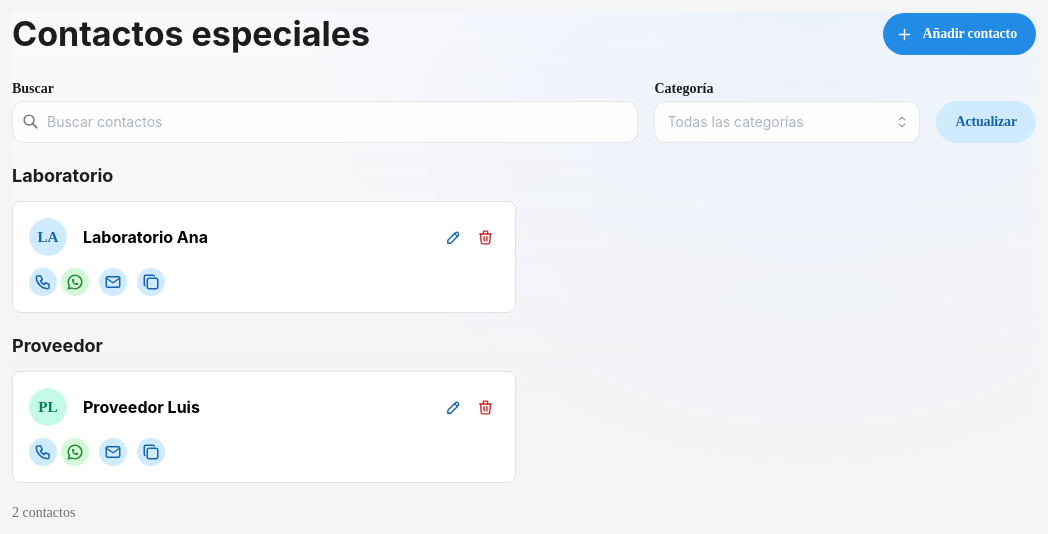
Test: search filters cards and offers add contact in the empty state
Type "Luis" into the field with placeholder "Buscar contactos" at (325, 122), box [12,101,638,143]
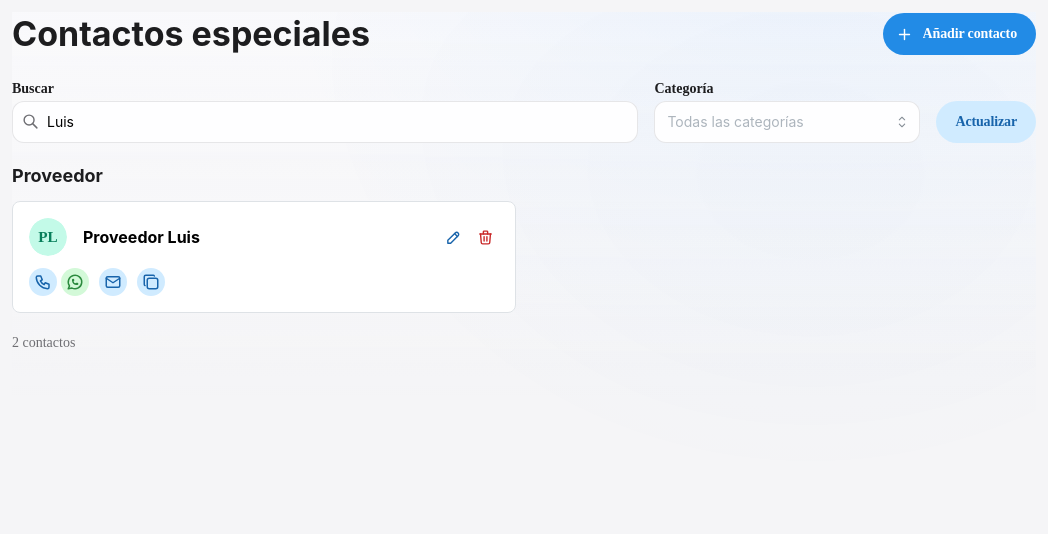
Expected: the heading "Proveedor Luis" is shown, [83,225,200,249]
Expected: the heading "Laboratorio Ana" is gone
Replace the text in the field with placeholder "Buscar contactos" with "Sin resultados" at (325, 122), box [12,101,638,143]
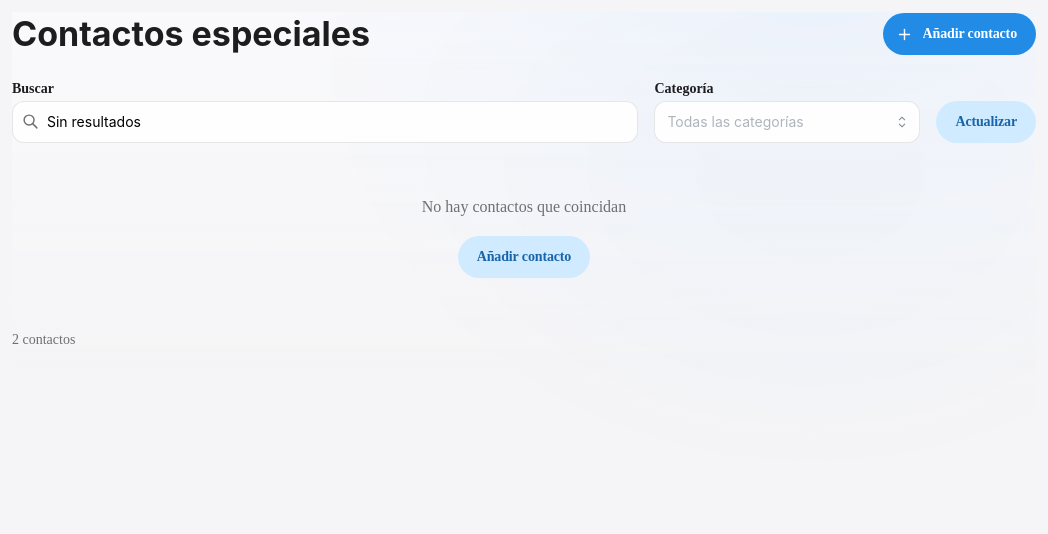
Expected: the button "Añadir contacto" in the row of "Contactos especiales" is shown, [882,13,1036,55]
Expected: the text "No hay contactos que coincidan" is shown, [422,195,626,220]
